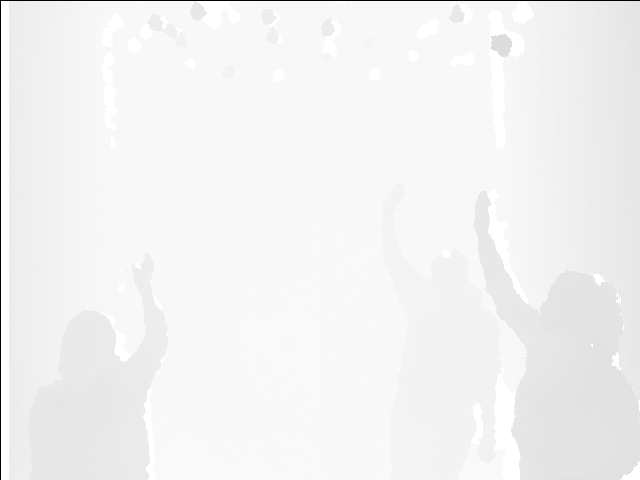hand: (472, 190, 499, 234), (131, 253, 155, 292), (381, 185, 408, 219)
